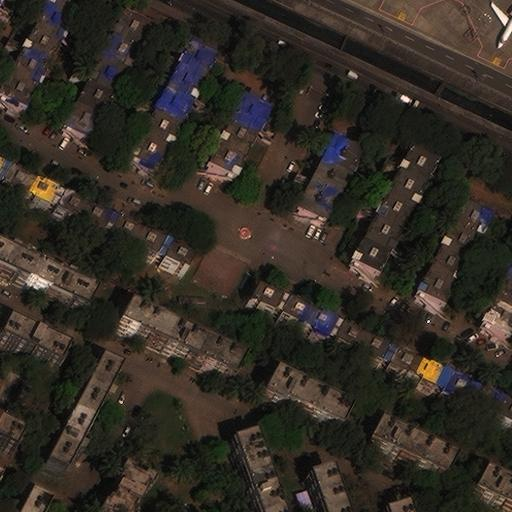Medium Civil Transport: (490, 0, 511, 48)
